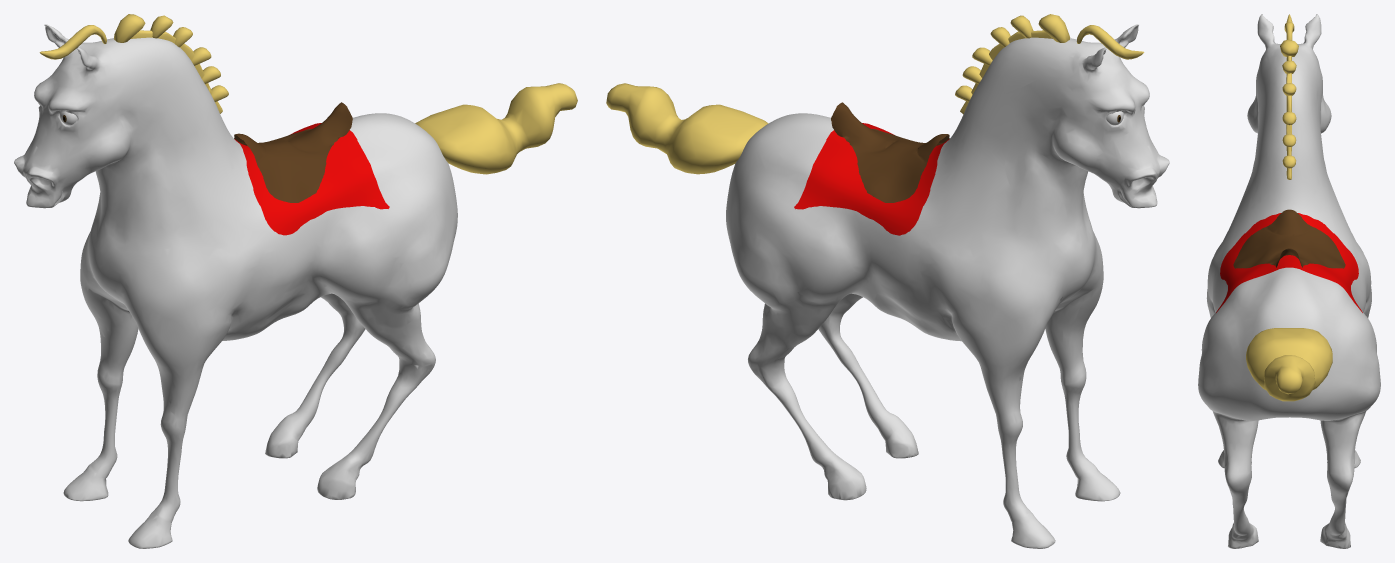
Rendered from MAXIMUS_SCULPT1.glb.
The picture shows the model from 3 angles, left to right: view 1: azimuth 30°, elevation 25°; view 2: azimuth 150°, elevation 25°; view 3: azimuth 270°, elevation 25°; orthographic projection. The views are drawn at different scales.
Visible parts, largest first — view 1: Cube, Cube.001, Cube.010, Cube.011, Cube.008; view 2: Cube, Cube.001, Cube.010, Cube.011, Cube.008; view 3: Cube, Cube.001, Cube.011, Cube.010, Cube.009, Cube.003.
Part boxes in pixels (box(x1,y1,x2,y2)): Cube: box(14, 24, 457, 548); Cube.001: box(415, 83, 577, 174); Cube.010: box(234, 123, 389, 235); Cube.011: box(234, 102, 352, 202); Cube.008: box(39, 25, 106, 59); Cube: box(726, 24, 1169, 548); Cube.001: box(606, 83, 768, 174); Cube.010: box(794, 123, 949, 235); Cube.011: box(831, 102, 949, 202); Cube.008: box(1076, 25, 1144, 59); Cube: box(1198, 14, 1380, 548); Cube.001: box(1246, 328, 1332, 401); Cube.011: box(1233, 209, 1345, 268); Cube.010: box(1216, 213, 1362, 312); Cube.009: box(1286, 56, 1291, 179); Cube.003: box(1280, 39, 1298, 56).
Size of the model in its own units: 3.22 by 2.8 by 1.08.
